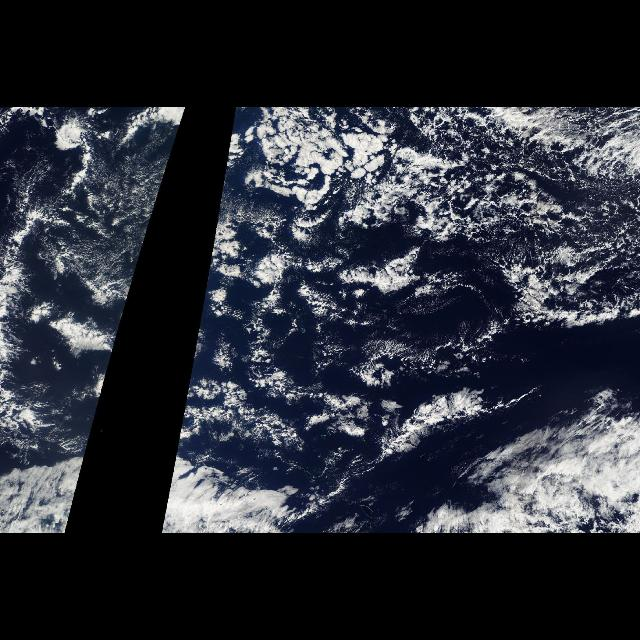Fish: (323, 366, 493, 512)
Gravel: (405, 108, 637, 324)
Sugar: (203, 158, 403, 396), (12, 139, 178, 309)
